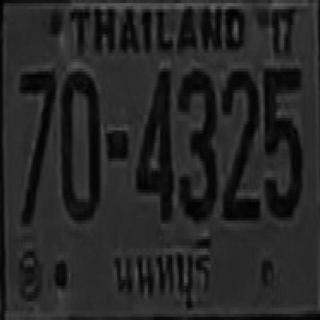N00: (59, 58, 107, 239)
N02: (219, 64, 266, 236)
N03: (178, 64, 222, 231)
N04: (130, 68, 179, 236)
N05: (262, 64, 306, 240)
N07: (16, 58, 60, 239)
P37: (105, 234, 220, 316)
